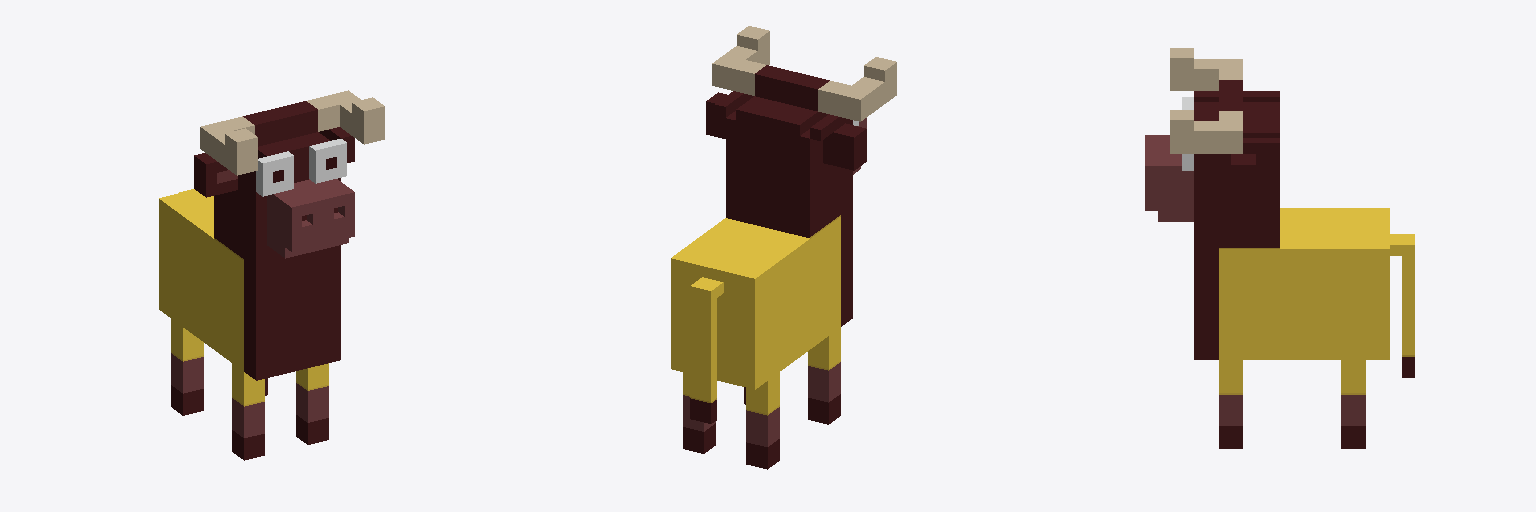
The picture shows the model from 3 angles: view 1: azimuth 30°, elevation 25°; view 2: azimuth 150°, elevation 25°; view 3: azimuth 270°, elevation 25°; orthographic projection.
Visible parts, largest first — view 1: Bull; view 2: Bull; view 3: Bull.
Part boxes in pixels (bbox=[...]): Bull: bbox=[159, 90, 384, 460]; Bull: bbox=[671, 26, 896, 469]; Bull: bbox=[1145, 48, 1414, 448].
Bounding box in the file's own units: 0.56 × 1.24 × 0.88.
Materials: 1 (1 with a texture image).